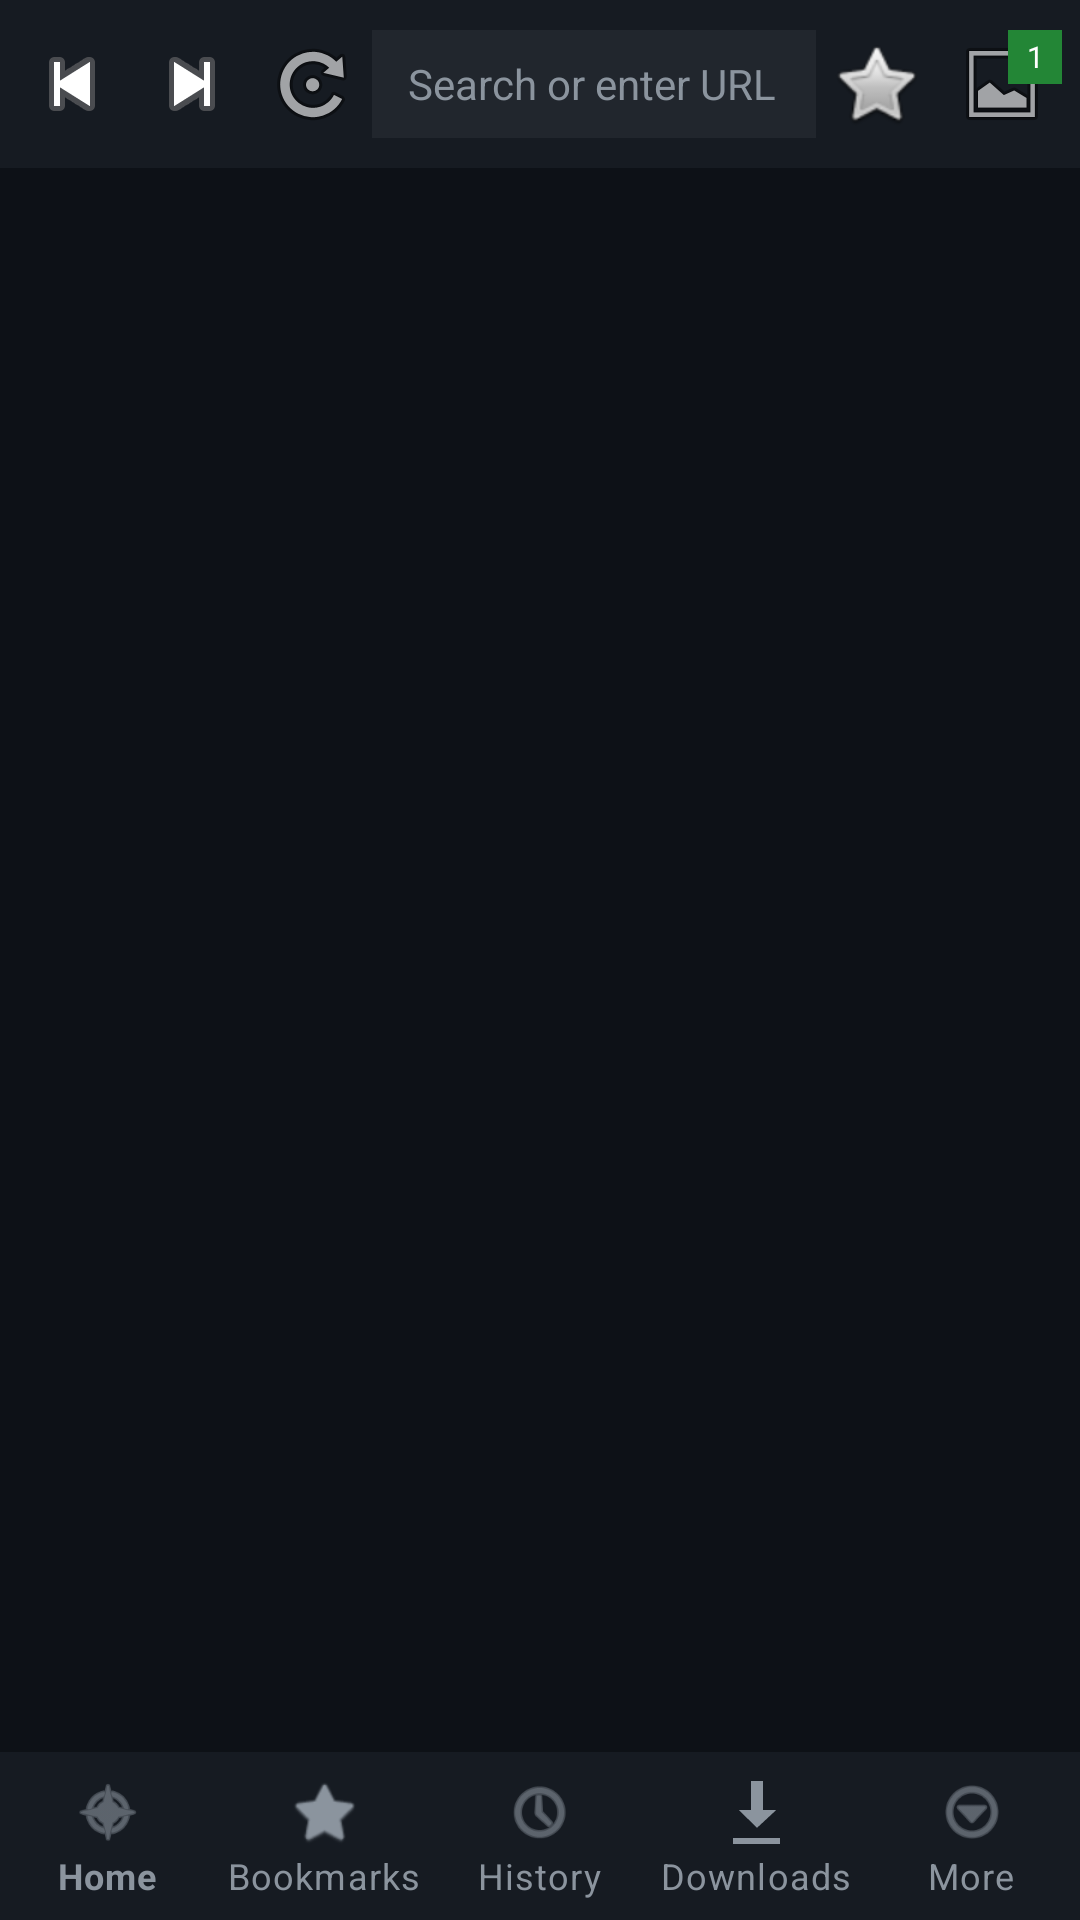

Icons on this 1080px x 1920px Android screen, each with its box as (x1, y1, x2, y2):
Back: (49, 57, 95, 111)
Bookmark this page: (838, 47, 915, 120)
Forward: (169, 57, 215, 111)
Open tabs: (969, 30, 1062, 117)
Refresh: (280, 52, 344, 117)
